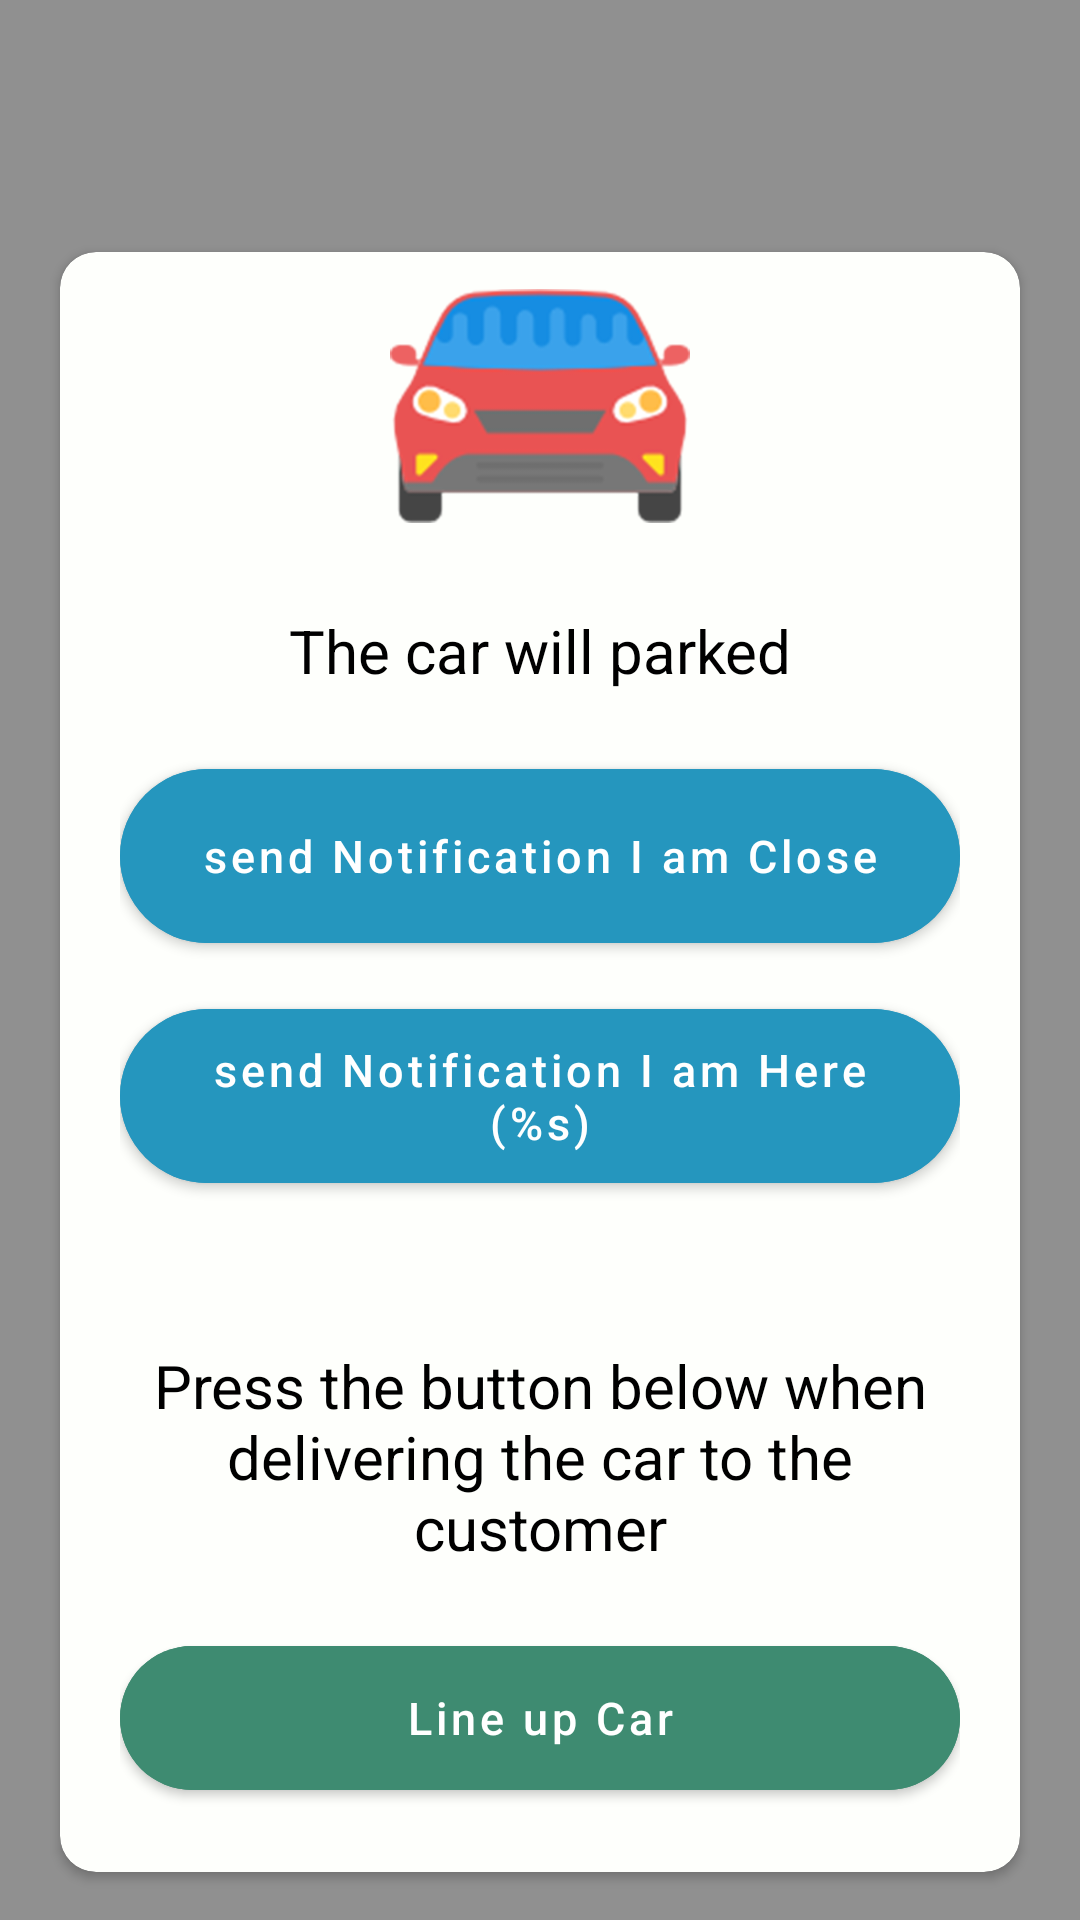

Where to tap for icons on this 1080px x 1920px app screen, as (x=x, y=y):
carpopop: (x=540, y=406)
